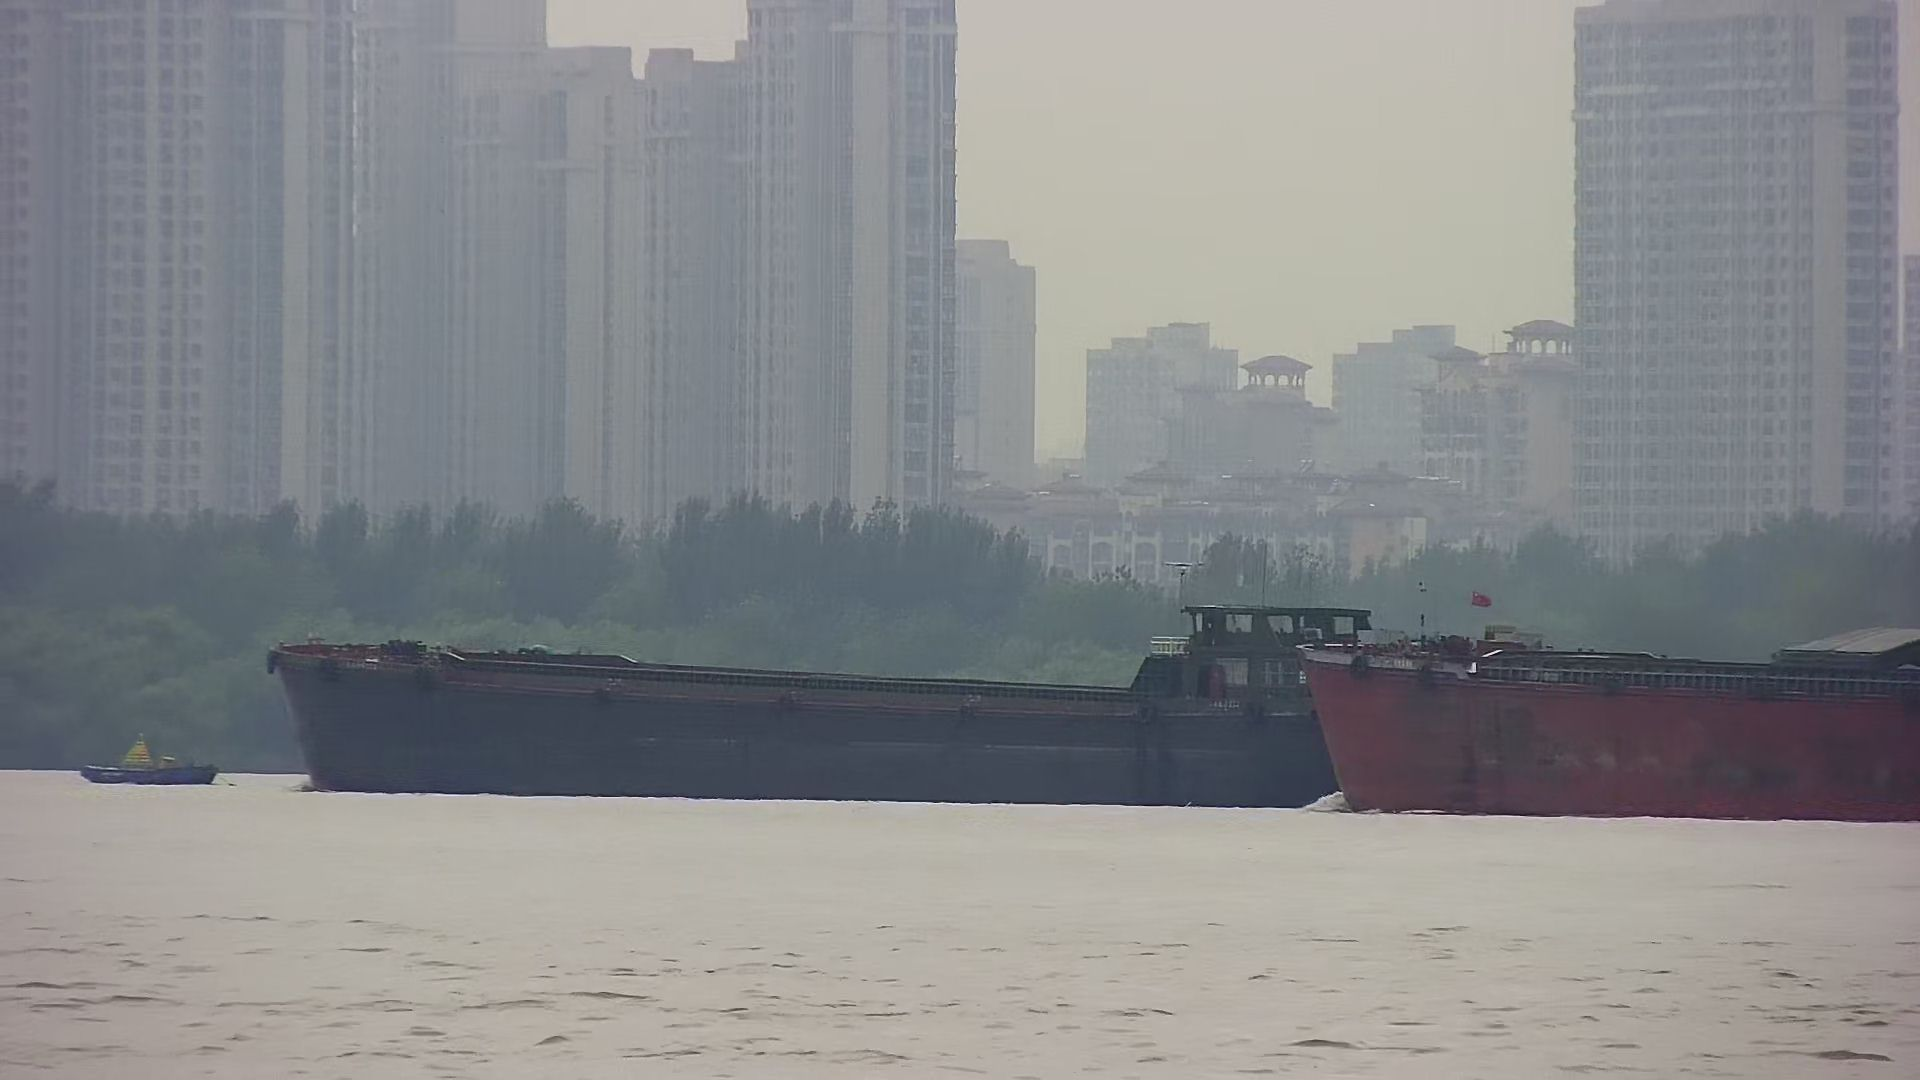boat: (76, 733, 222, 786)
ship: (266, 591, 1393, 818), (1298, 572, 1920, 825)
